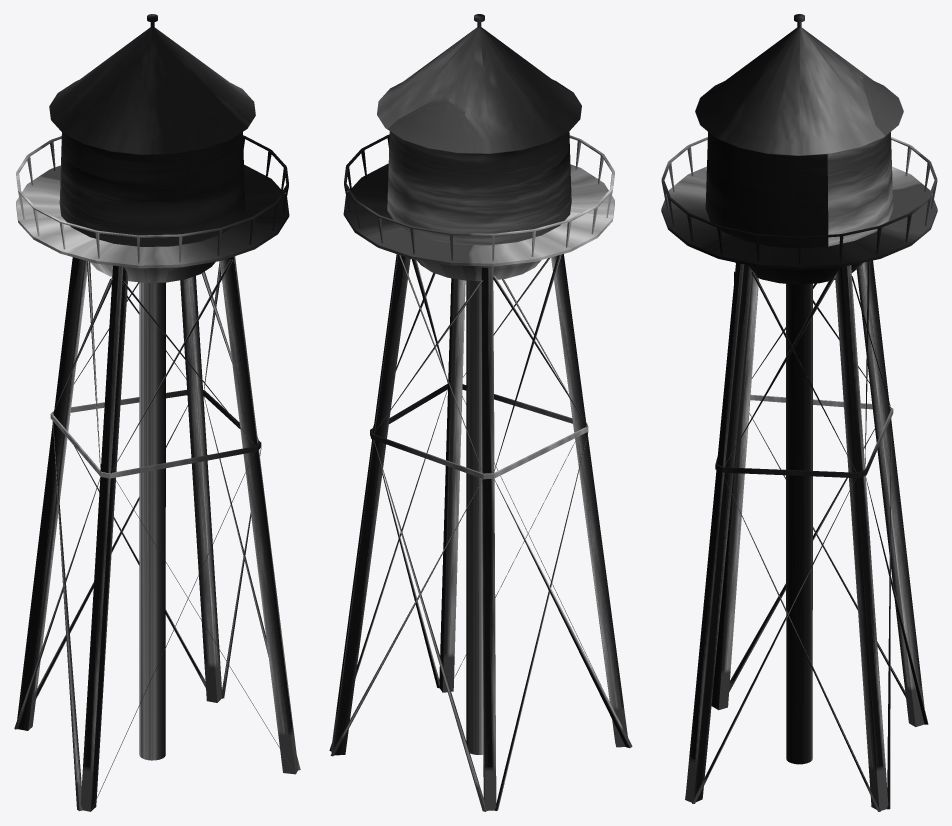
The model's file is tower.obj.
The picture shows the model from 3 angles, left to right: view 1: azimuth 30°, elevation 25°; view 2: azimuth 150°, elevation 25°; view 3: azimuth 270°, elevation 25°; orthographic projection.
Visible parts, largest first — view 1: WATER_TOWER1; view 2: WATER_TOWER1; view 3: WATER_TOWER1.
Part boxes in pixels (bbox=[...]): WATER_TOWER1: bbox=[14, 14, 300, 811]; WATER_TOWER1: bbox=[329, 14, 632, 811]; WATER_TOWER1: bbox=[661, 14, 937, 811].
Size of the model in its own units: 11.98 by 35.53 by 11.98.
Materials: 1 (1 with a texture image).
